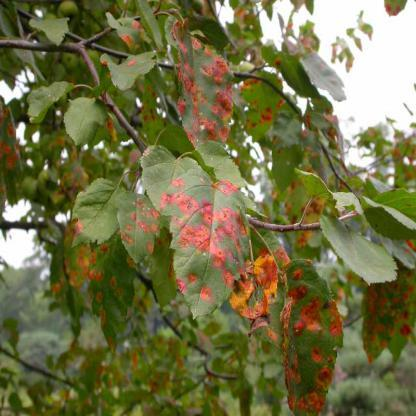Apple rust leaf: (157, 169, 260, 330), (273, 250, 371, 416), (160, 15, 243, 172), (88, 216, 140, 350), (352, 250, 402, 368), (111, 183, 161, 266), (0, 90, 24, 202)
